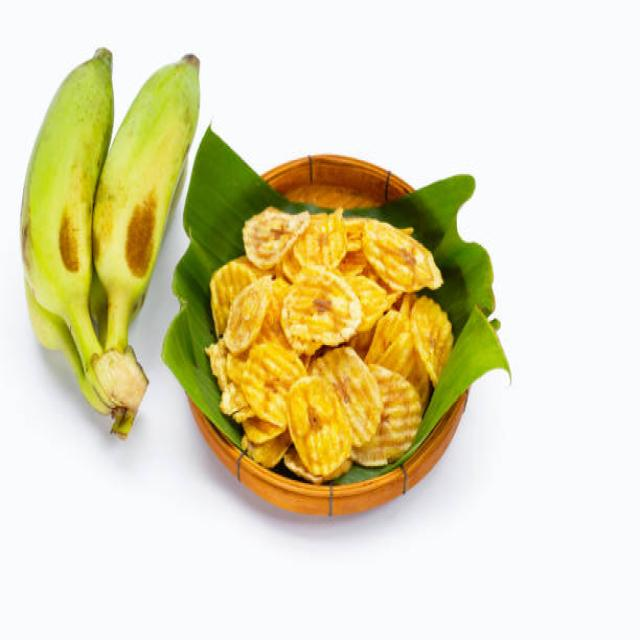BANANA: (19, 50, 200, 431)
BANANA CHIPS: (207, 206, 455, 487)
